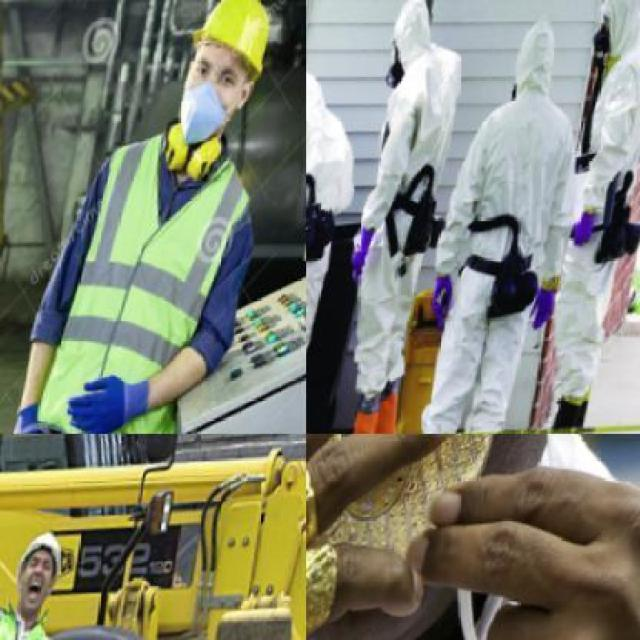Vest: (39, 120, 272, 432), (414, 97, 594, 432), (342, 58, 464, 394), (557, 54, 638, 411), (306, 112, 369, 420)
